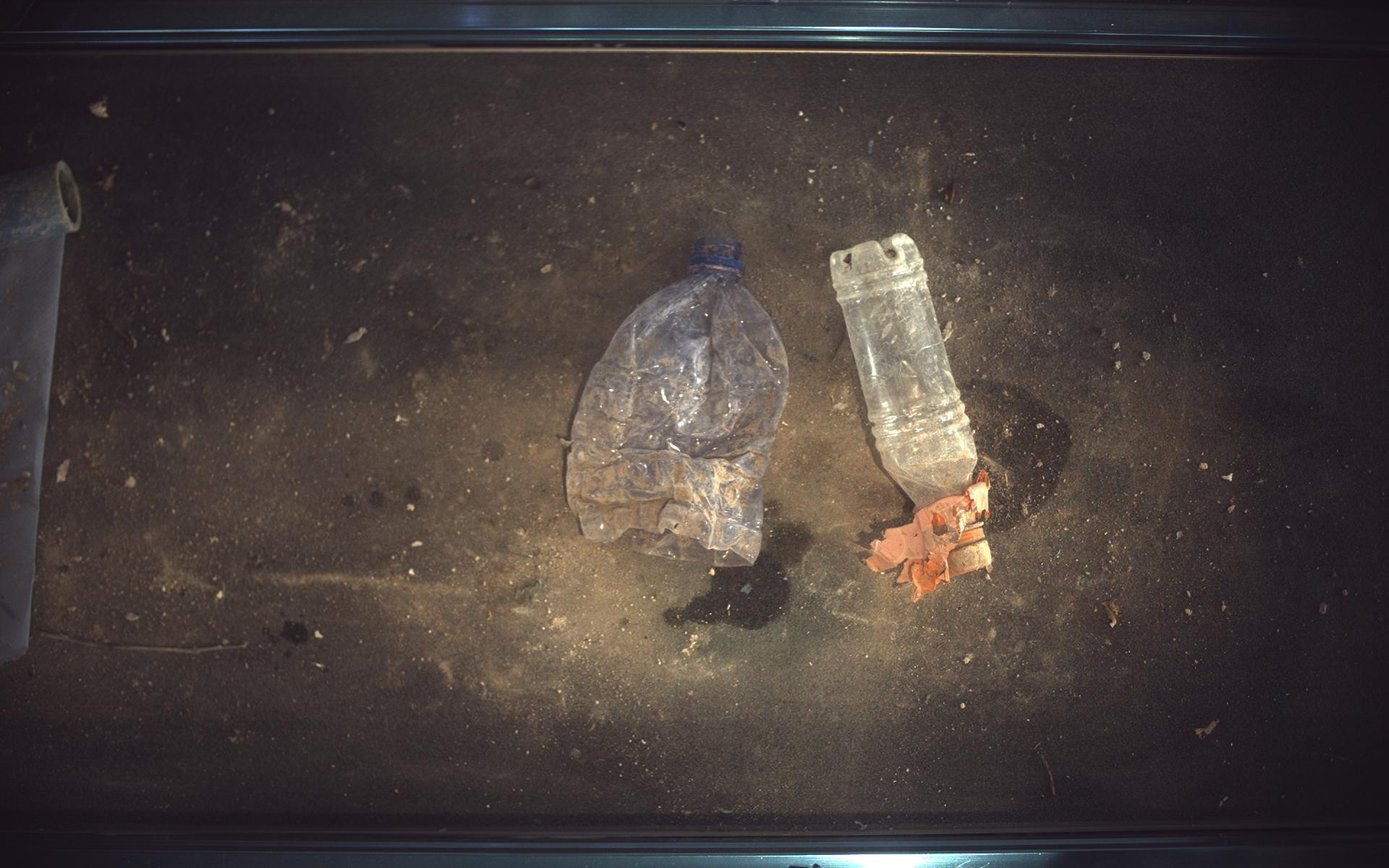general_w: (566, 236, 790, 567), (832, 233, 993, 603)
pipes: (1, 160, 80, 249)
